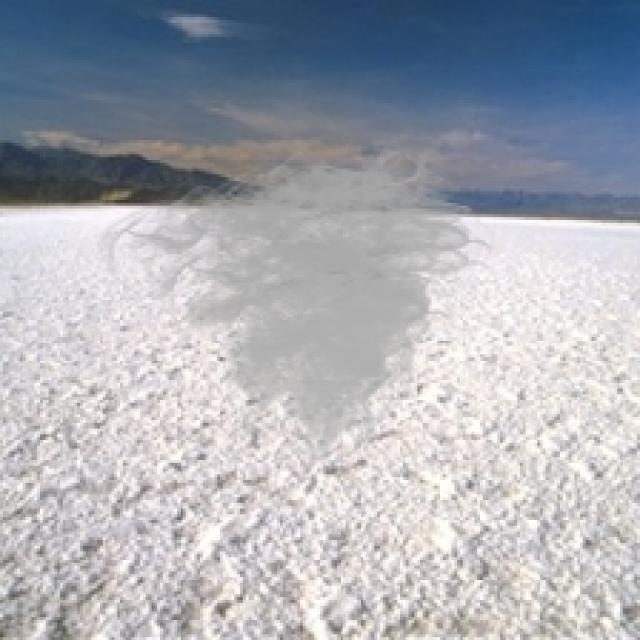smoke: (91, 126, 508, 474)
